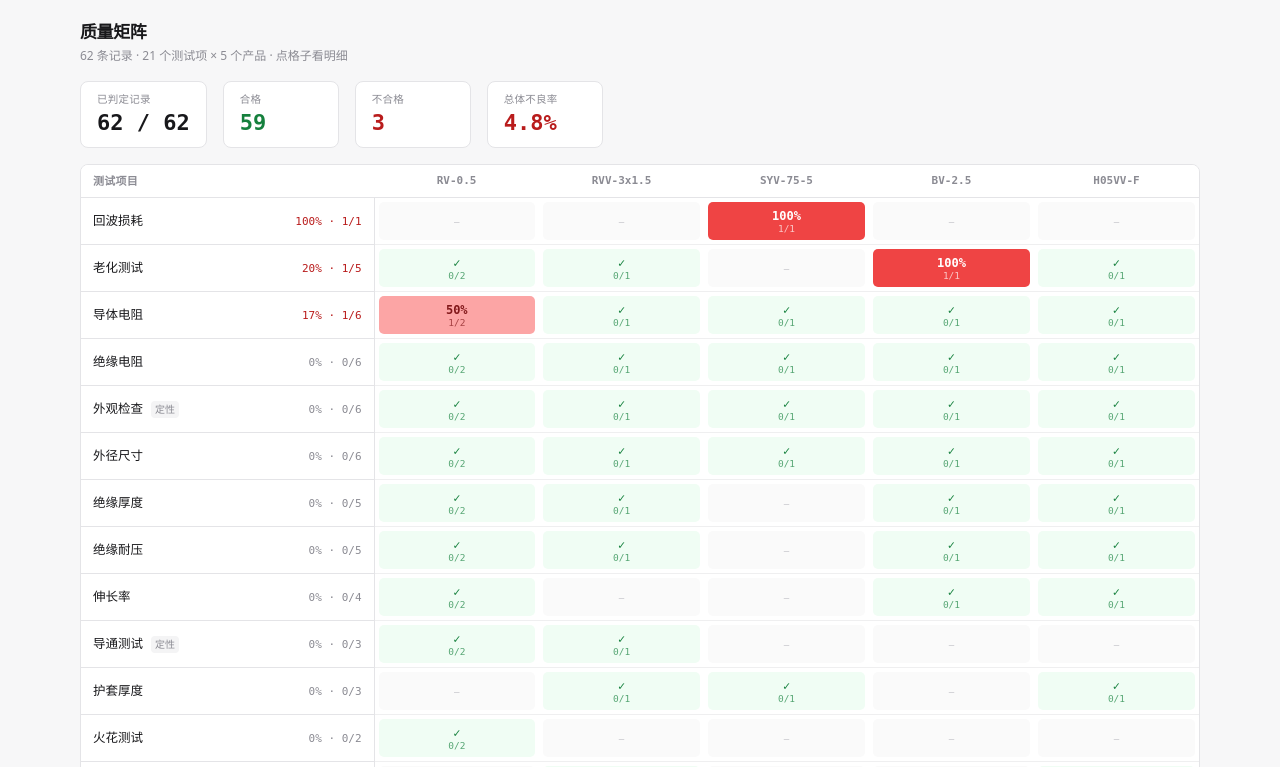
Test: HeatmapPage 点格下钻 › 点开 RV-0.5 × 导体电阻：只标红越界那一次测量，并显示系统读到的规则
Expected: the heading "质量矩阵" is shown, [80,20,146,43]
同页展开，不跳页
Click the button titled "导体电阻 · RV-0.5：1 次不合格 / 2 次已判定 —— 点击看明细" at (457,315), box [378,296,535,334]
(page scrolled)
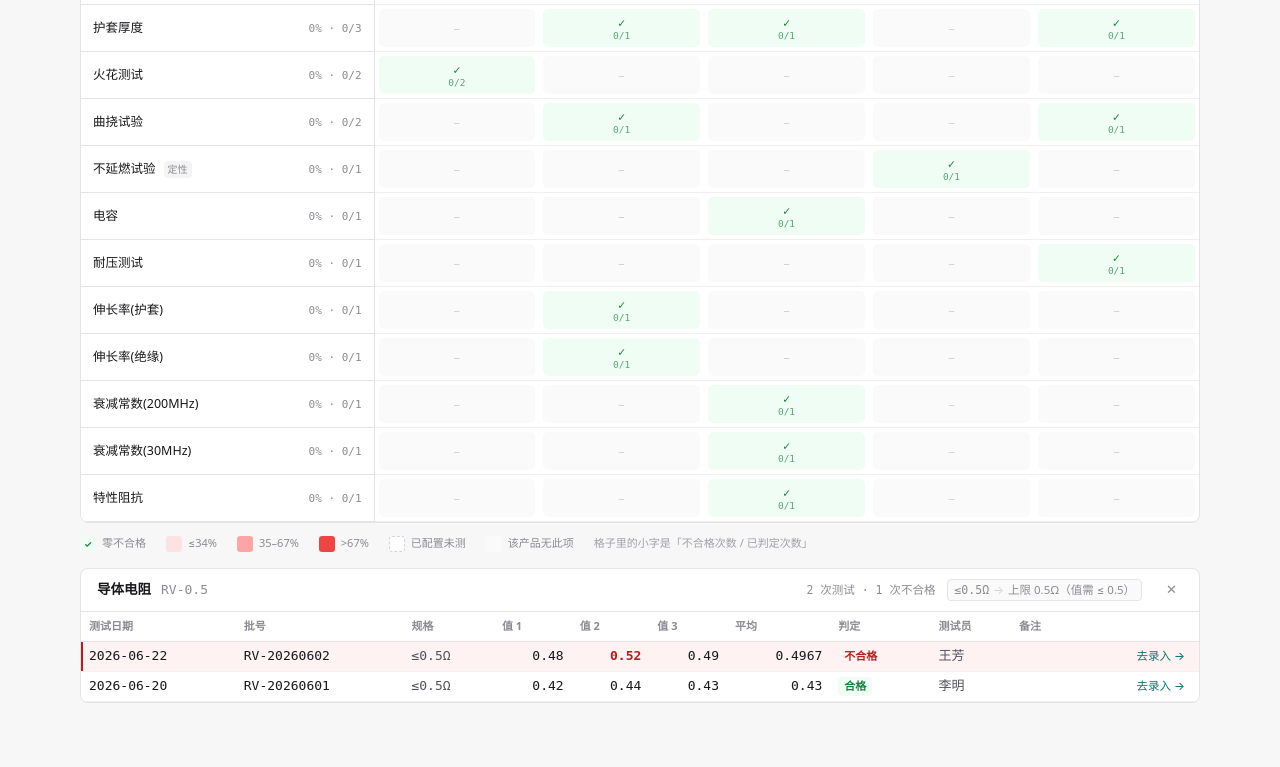
Now the text "RV-20260602" is shown, box [236,641,403,671]
Now the text "≤0.5Ω→上限 0.5Ω（值需 ≤ 0.5）" is shown, box [947,579,1142,601]
